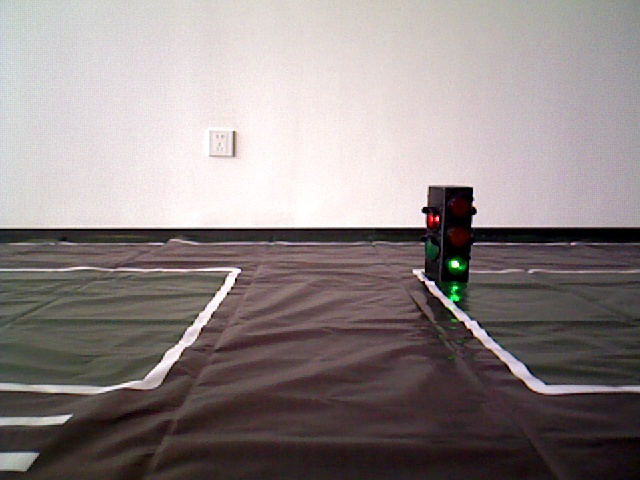green: (427, 187, 472, 281)
